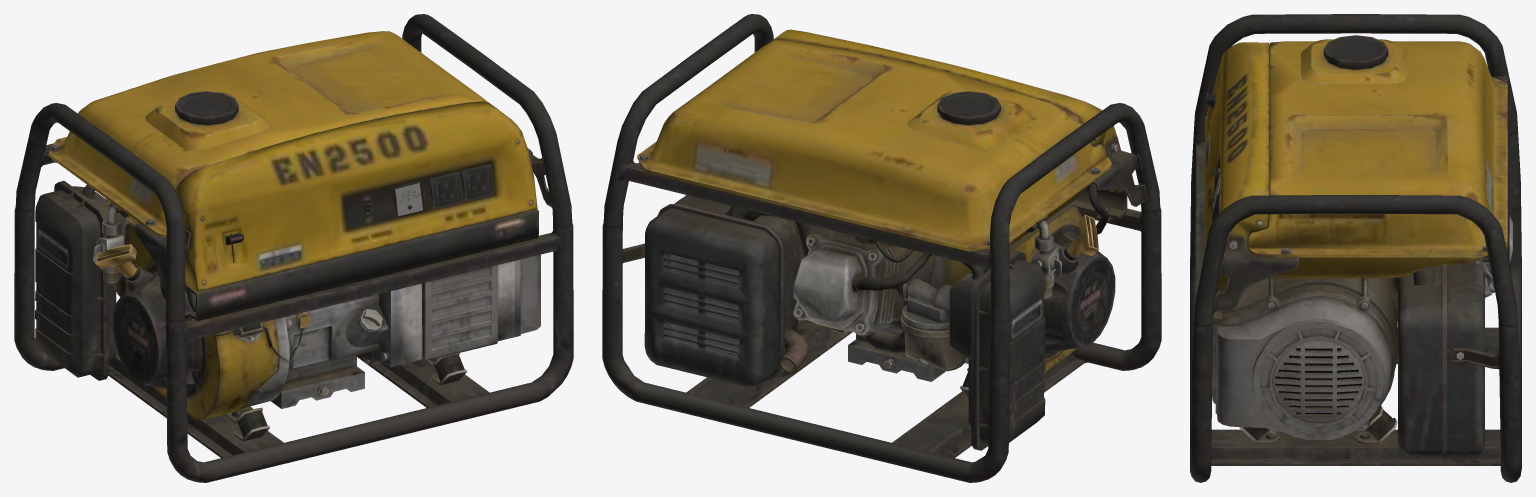
File: ph_portable_generator.glb
The picture shows the model from 3 angles, left to right: view 1: azimuth 30°, elevation 25°; view 2: azimuth 150°, elevation 25°; view 3: azimuth 270°, elevation 25°; orthographic projection.
Parts seen in each view (by area): view 1: portable_generator; view 2: portable_generator; view 3: portable_generator.
Boxes of the visible parts, left/top/right/bottom form: portable_generator: left=14, top=14, right=573, bottom=482; portable_generator: left=602, top=14, right=1161, bottom=482; portable_generator: left=1190, top=14, right=1521, bottom=482.
Bounding box in the file's own units: 0.8169 × 0.5752 × 0.564.
Materials: 2 (2 with a texture image).
